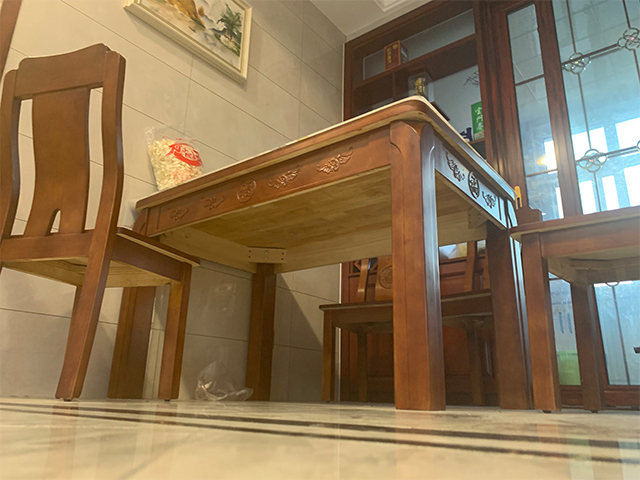stool: (1, 43, 201, 402), (507, 203, 640, 415), (318, 255, 394, 405)
table: (107, 94, 532, 412)
